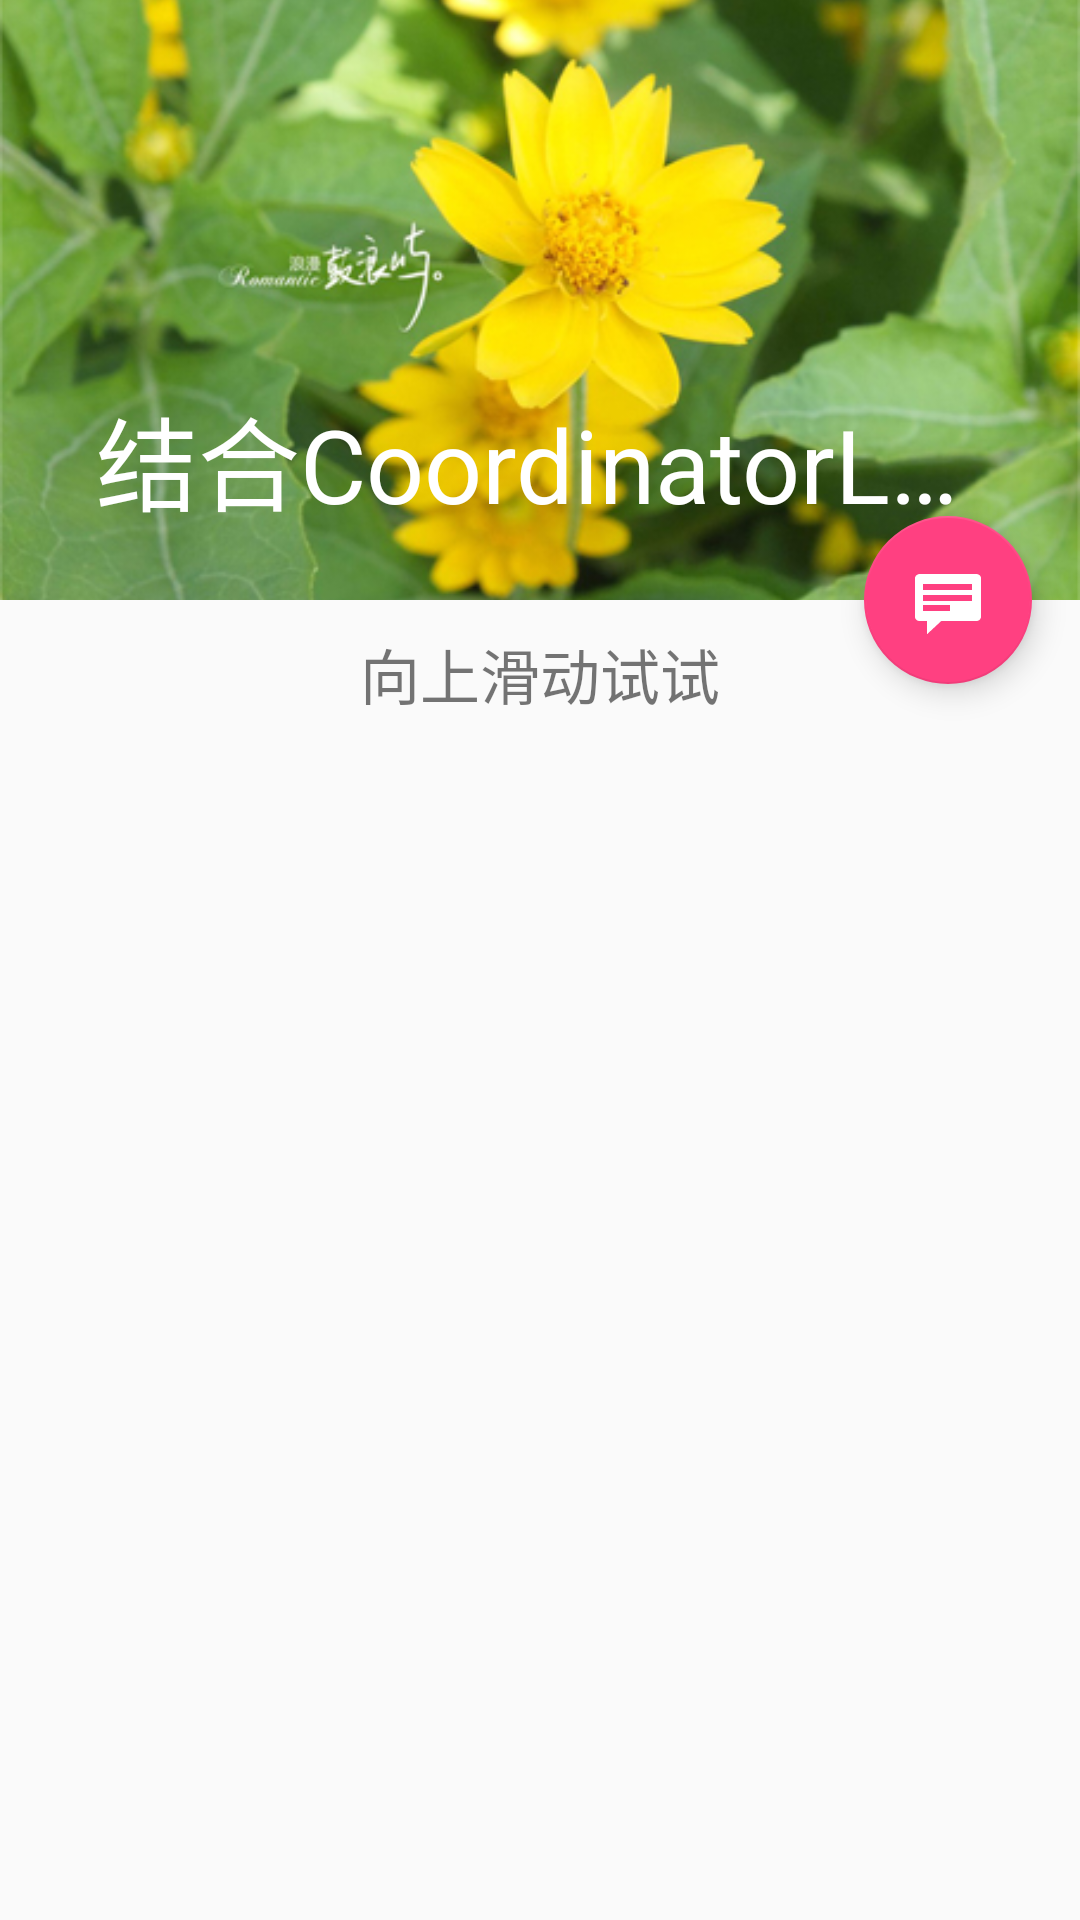

Screen size 1080 x 1920. Icon name, then its center in pixels as (x,y):
chat: (948,600)
